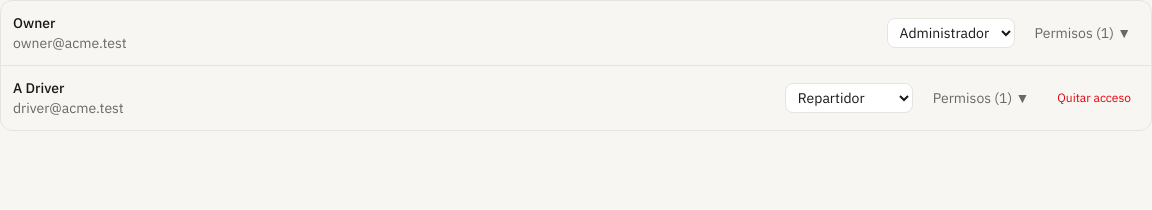
UsersTable — revoking access › reports a thrown action instead of leaving the row stuck
This screenshot has width=1152, height=210.
Click the button "Quitar acceso". click: [1094, 98]
box: [1049,86,1139,110]
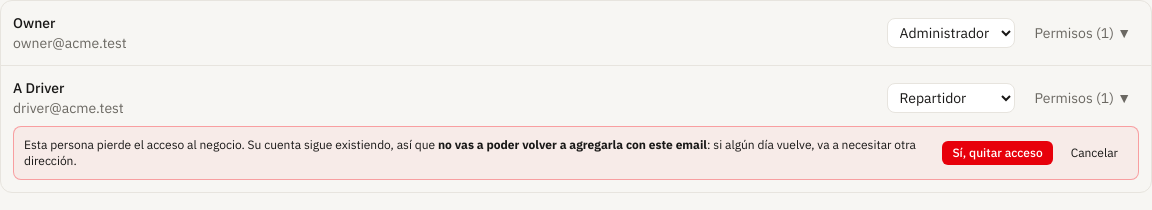
Click the button "Sí, quitar acceso". click: [998, 153]
box: [942,141,1053,165]
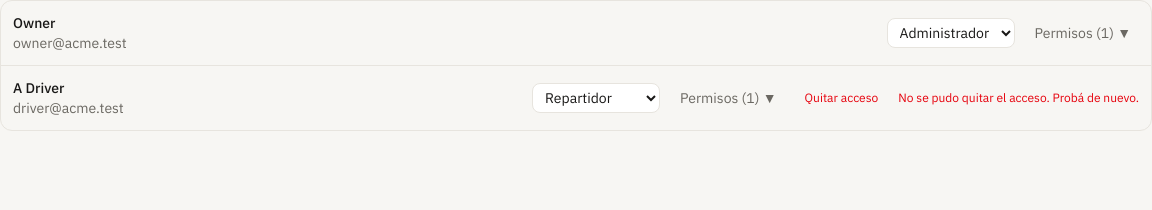
Expected: the message shows "No se pudo quitar el acceso", [898,90,1139,105]
